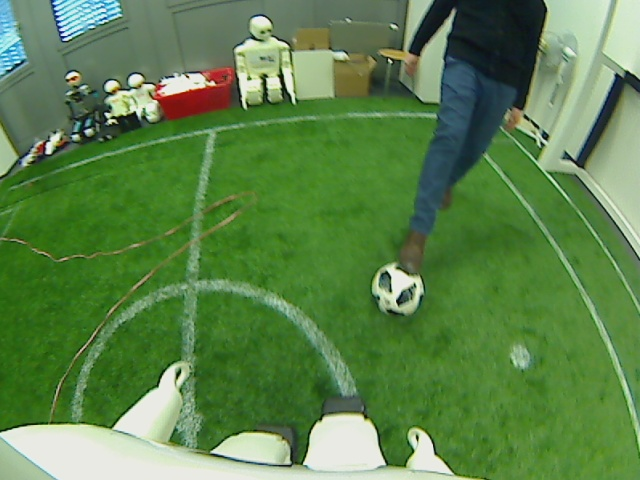ball: (370, 261, 425, 315)
